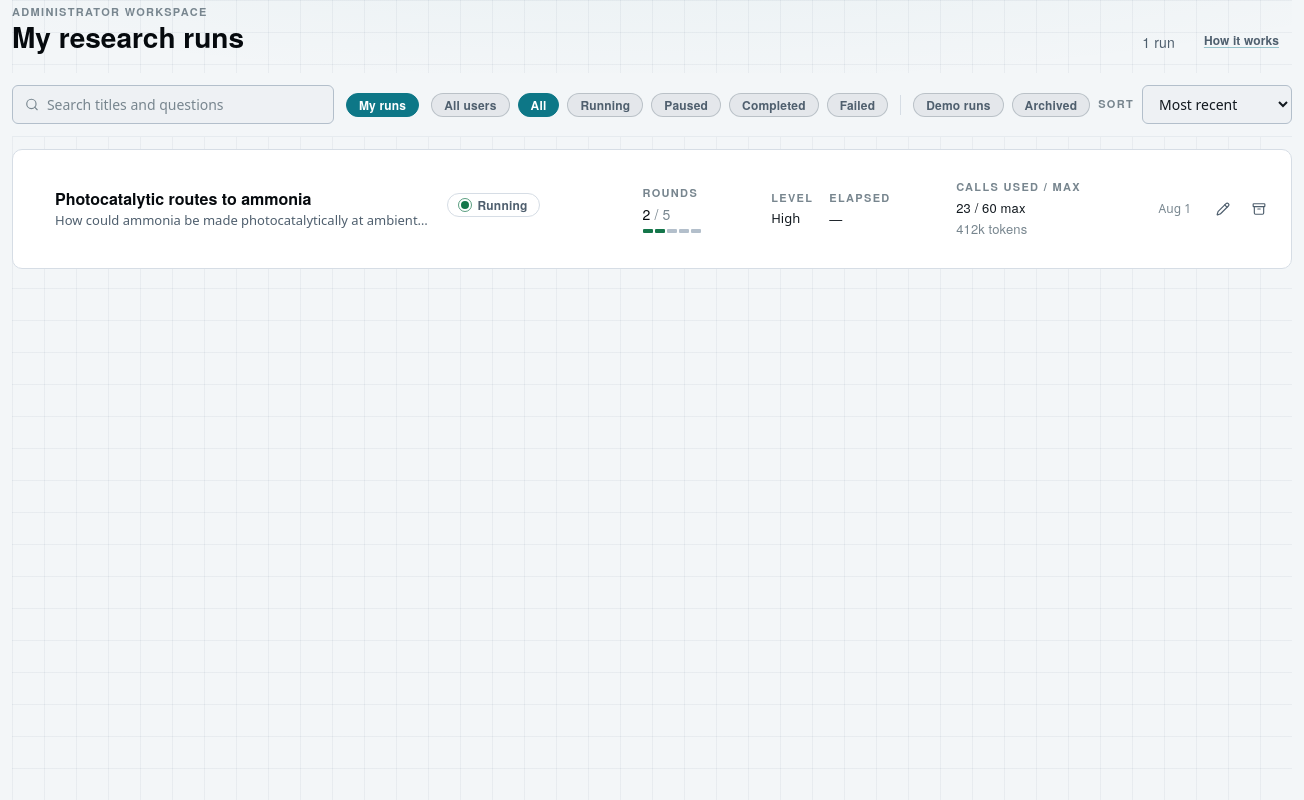
Test: runs list › archives a run without leaving the list
Expected: the link "Photocatalytic routes to ammonia" is shown, [55,188,312,209]
Click the button named "archive photocatalytic".
click(1259, 209)  # box [1243,193,1275,225]
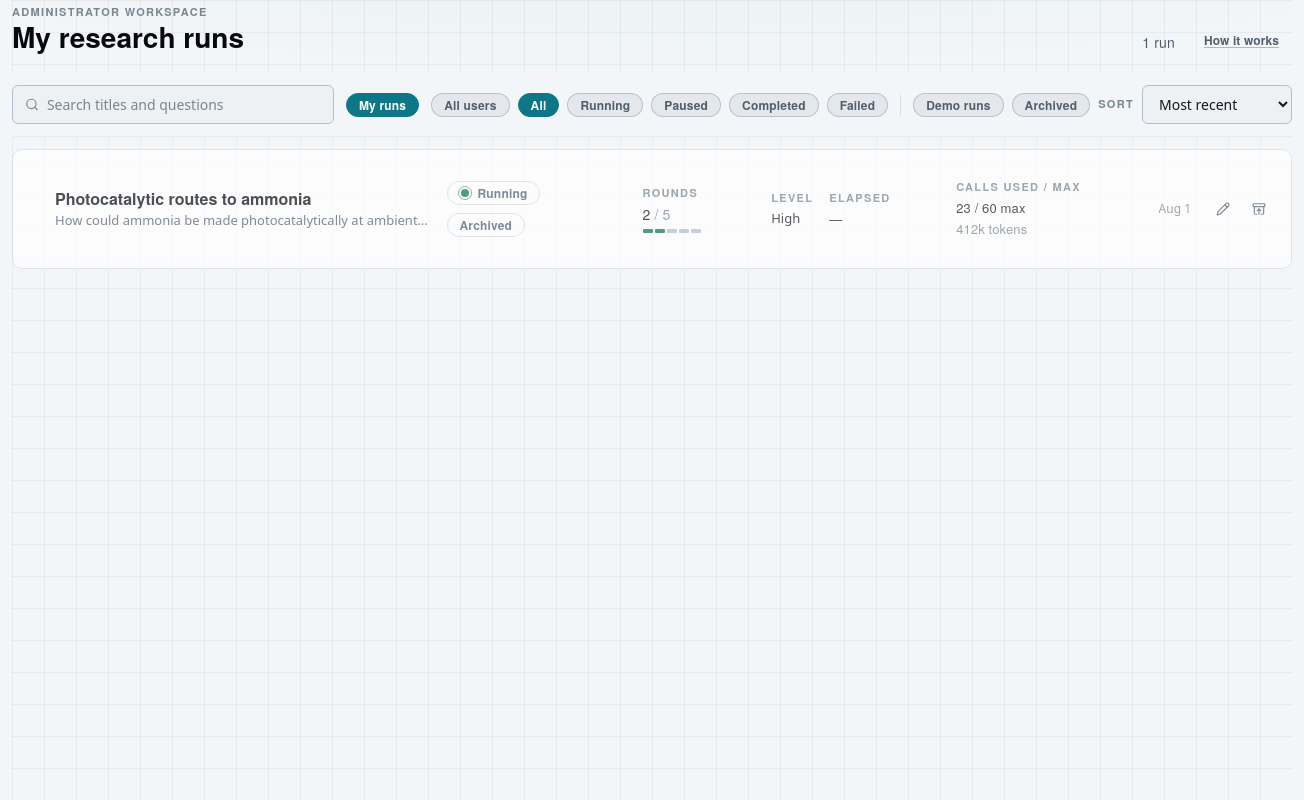
Now the button named "unarchive photocatalytic" is shown, box [1243,193,1275,225]
